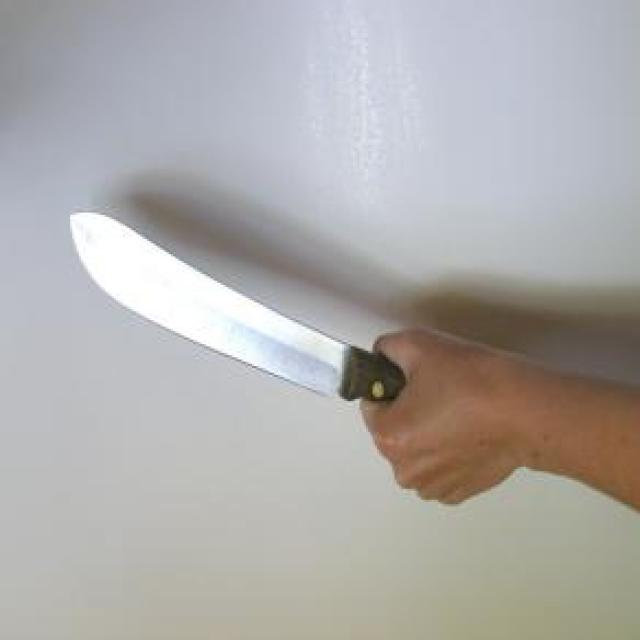knife: (44, 196, 437, 506)
